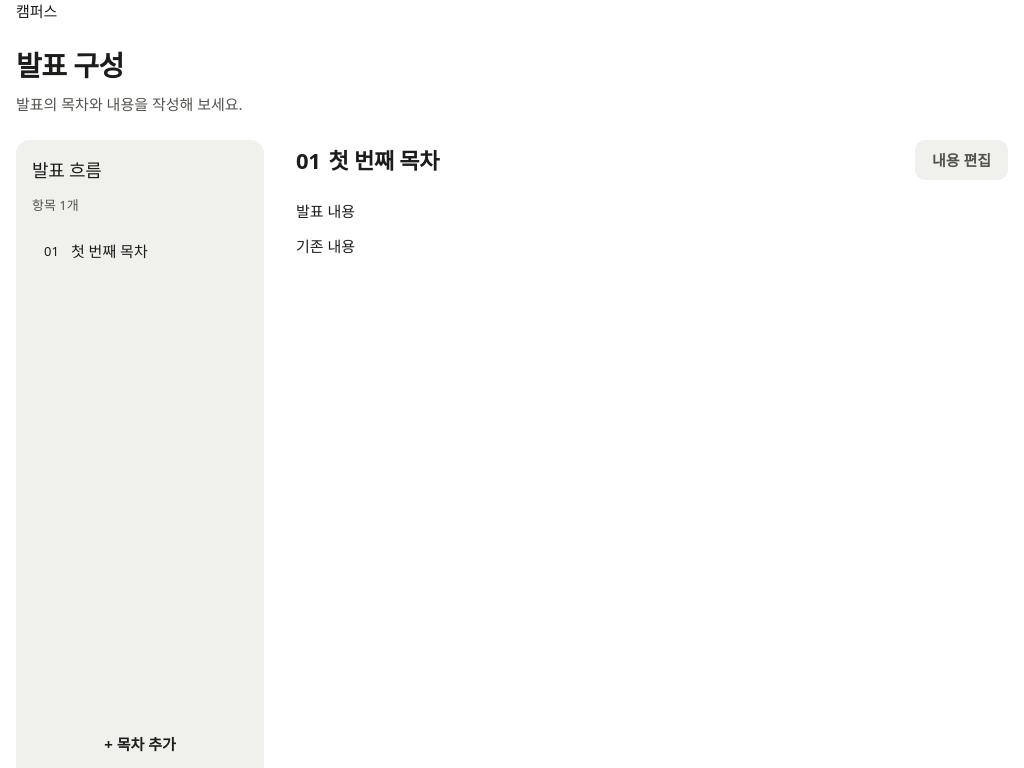
it: 확인된 버전 충돌은 최신 내용을 비교한 다음에도 내 입력을 유지한다
This screenshot has width=1024, height=768.
Click the button "내용 편집": (961,160) [915, 140, 1008, 180]
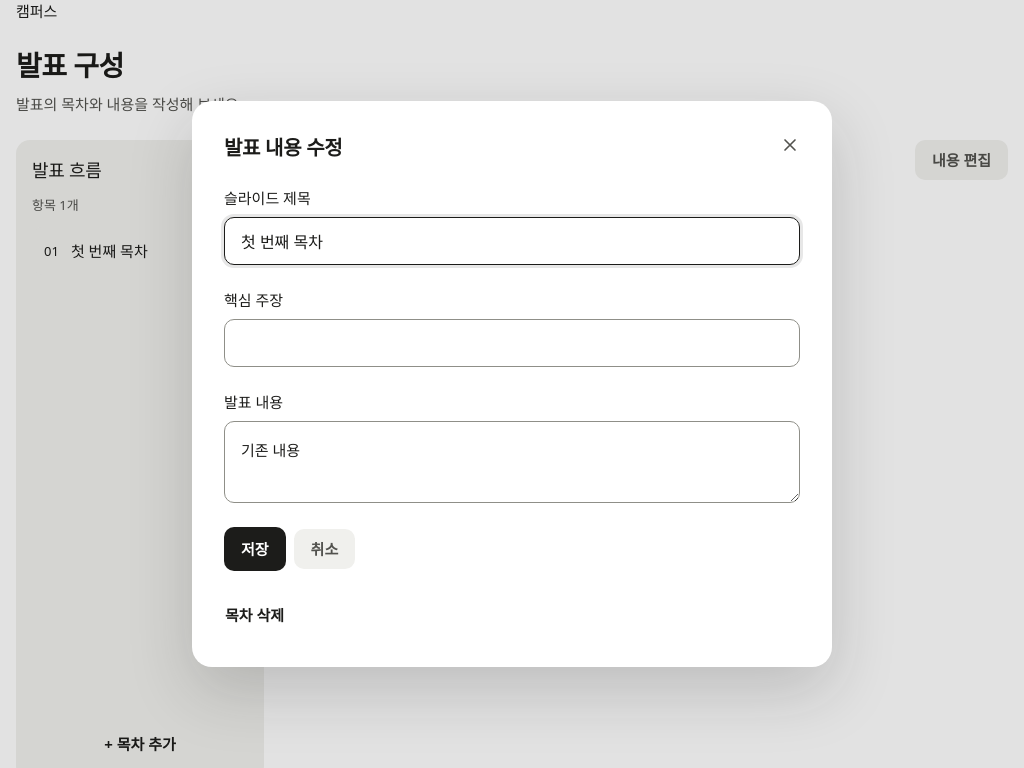
Replace the text in the field labelled "슬라이드 제목" with "내가 쓴 목차": (512,241) [224, 217, 800, 265]
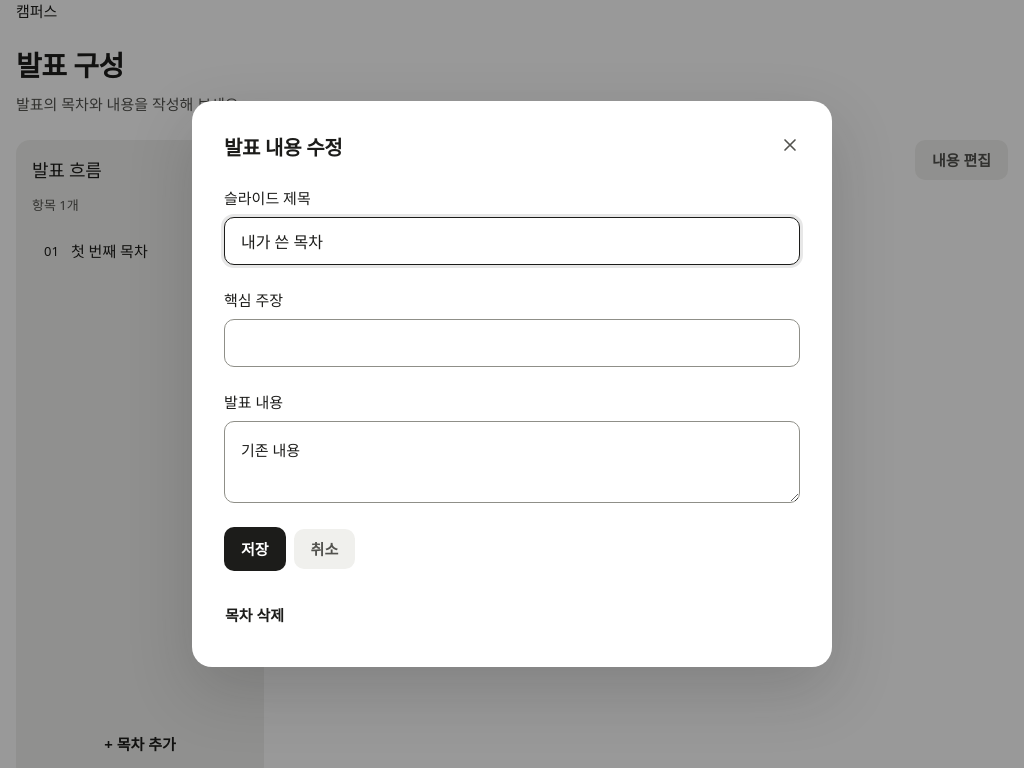
Click the button "저장": (255,549) [224, 527, 286, 571]
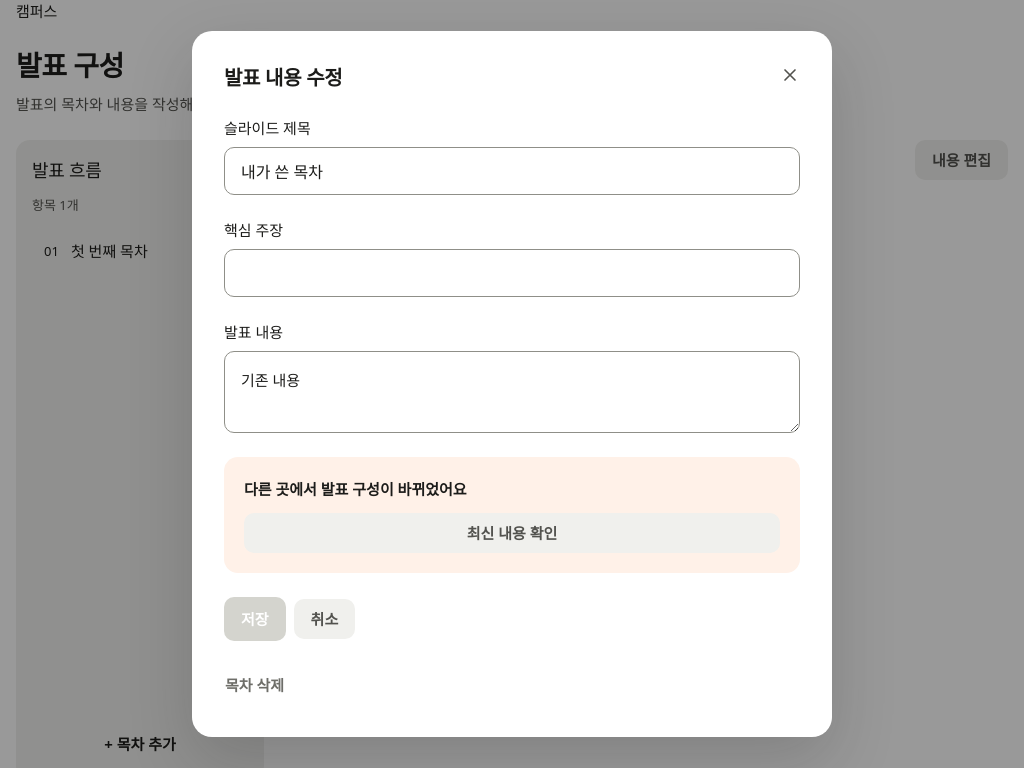
Click the button "최신 내용 확인": (512,533) [244, 513, 780, 553]
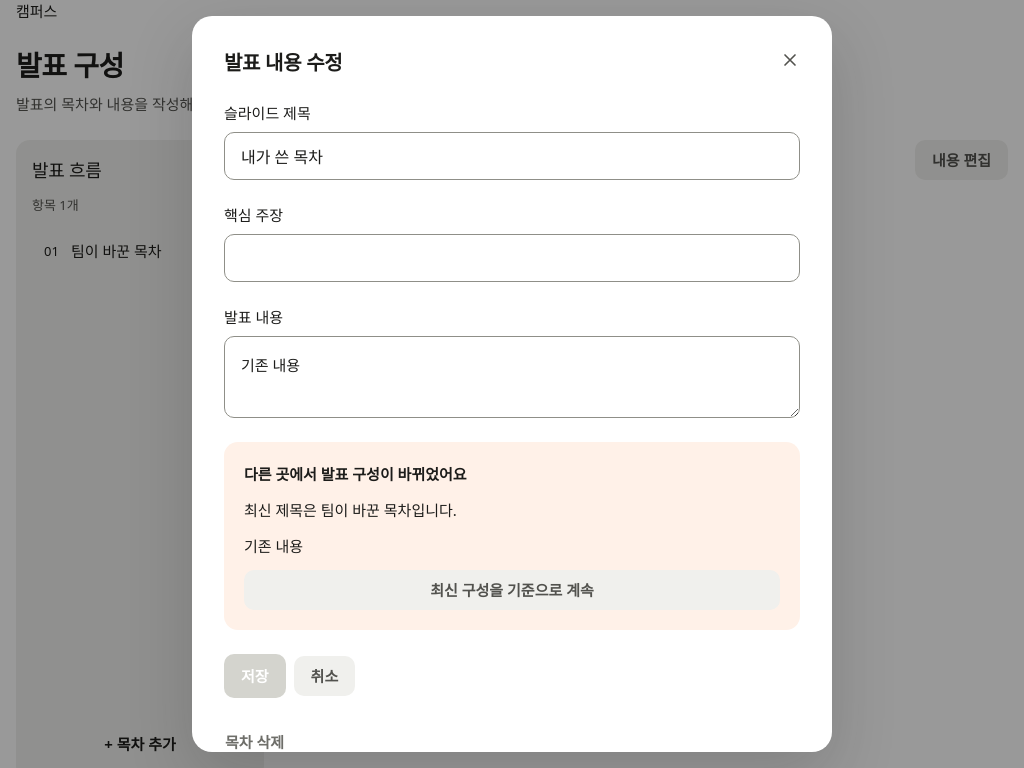
Check: the text "최신 제목은 팀이 바꾼 목차입니다." is shown, box [244, 500, 457, 520]
Click the button "최신 구성을 기준으로 계속": (512,590) [244, 570, 780, 610]
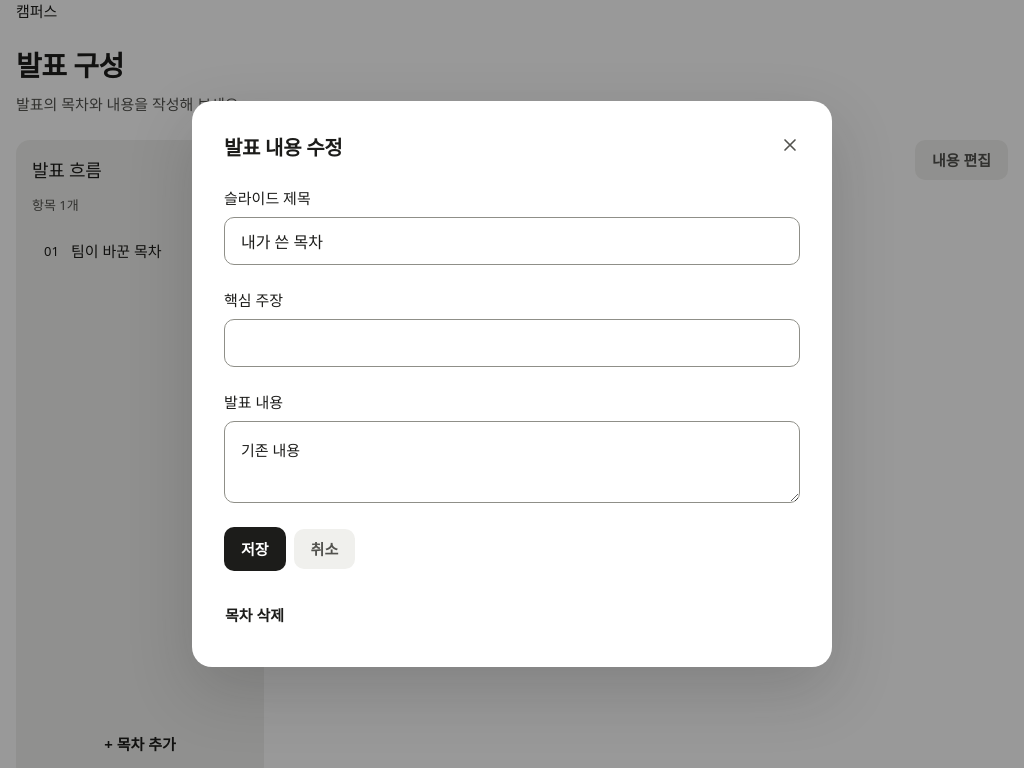
Click the button "저장": (255,549) [224, 527, 286, 571]
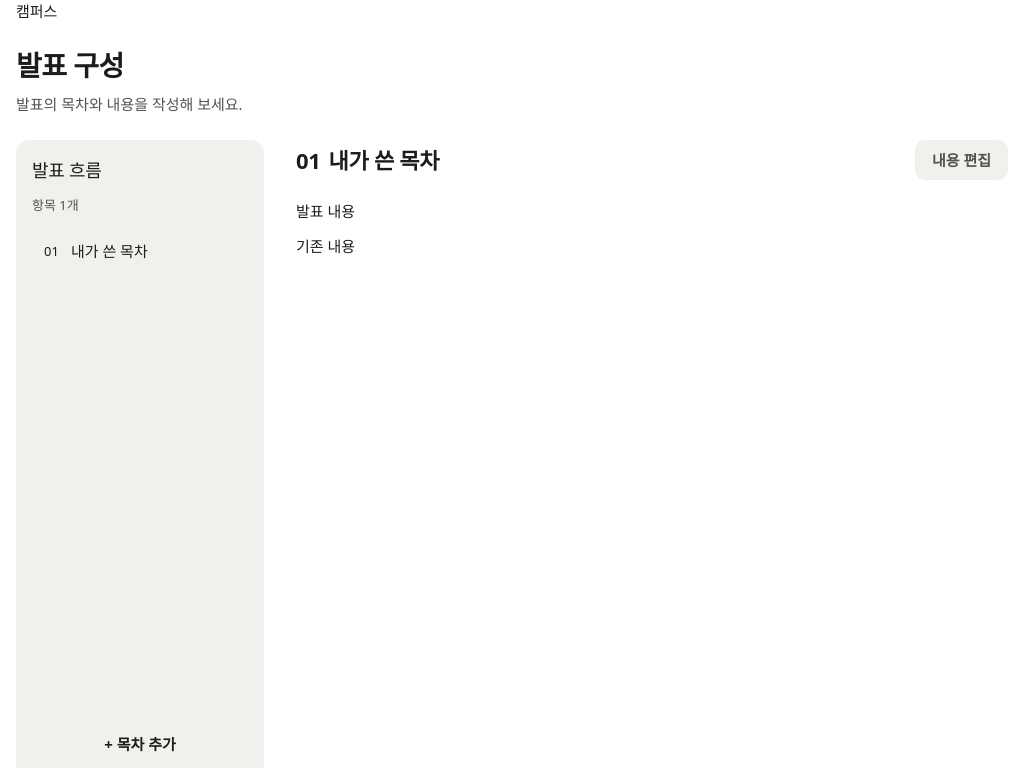
Check: the heading "01내가 쓴 목차" is shown, box [296, 145, 439, 175]
